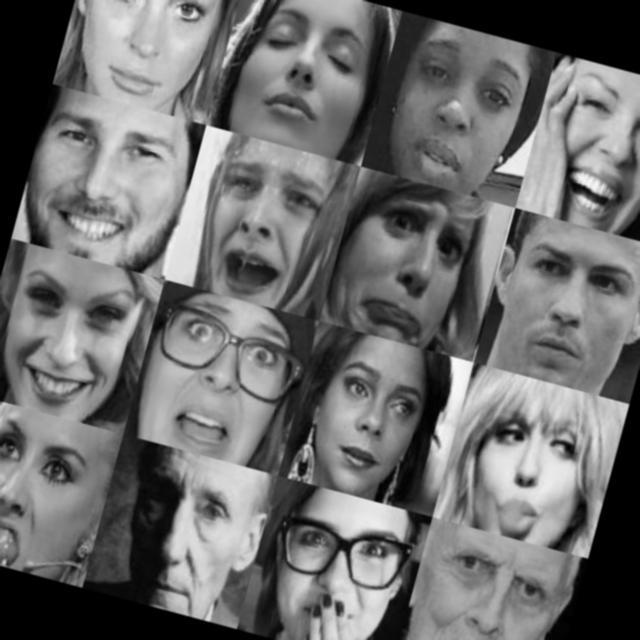angry: (0, 413, 89, 553)
fear: (120, 299, 294, 475)
happy: (448, 378, 607, 553), (21, 102, 183, 268), (228, 0, 384, 161), (250, 498, 413, 640), (0, 258, 137, 419), (76, 0, 226, 107), (539, 75, 640, 229)
neutral: (481, 221, 640, 384), (382, 30, 529, 200), (94, 464, 248, 623), (414, 536, 569, 640)
sad: (180, 140, 344, 306), (324, 186, 486, 354), (295, 338, 433, 488)
